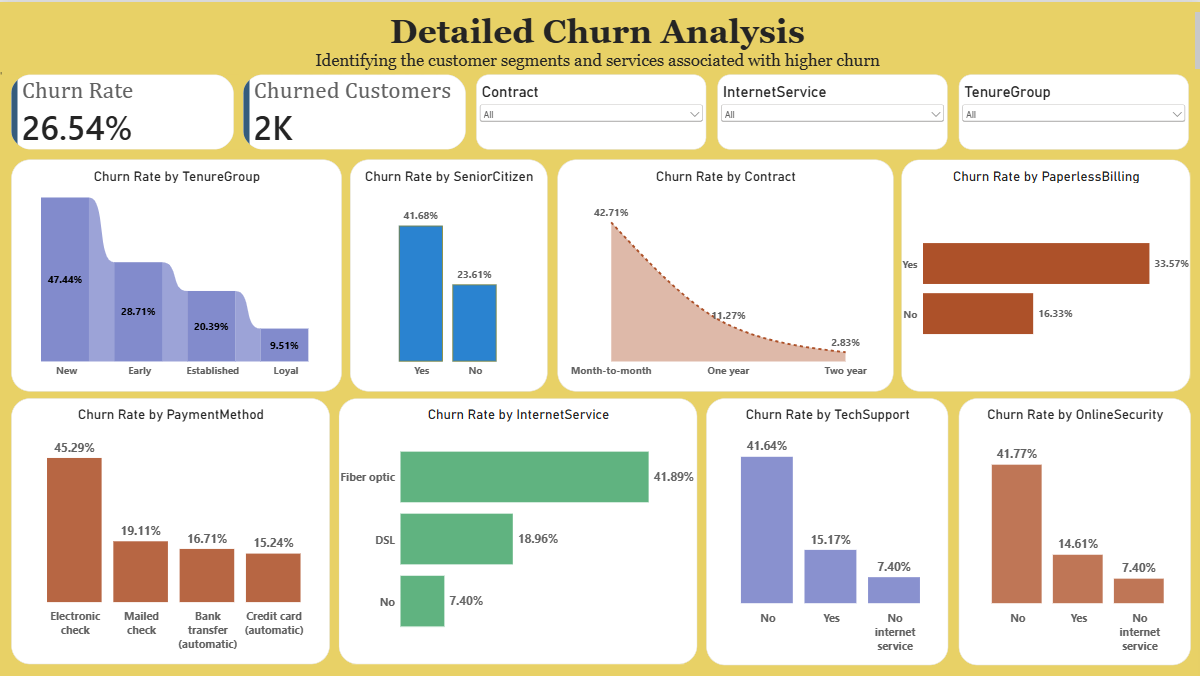

Layout of this report page (visuals, bound fields, positions):
{"tool":"powerbi","page":{"name":"Detailed Churn Analysis","canvas":[1920,1080],"ordinal":1},"visuals":[{"type":"textbox","box":[0,16,1920,100],"z":0},{"type":"cardVisual","fields":{"Data":["telco_customer_churn_cleaned.Churn Rate","telco_customer_churn_cleaned.Churned Customers"]},"box":[18,116,728,120],"z":1000},{"type":"areaChart","title":"Churn Rate by Contract","fields":{"Category":["telco_customer_churn_cleaned.Contract"],"Y":["telco_customer_churn_cleaned.Churn Rate"]},"box":[891.3,251.2,537.2,371.5],"z":2000},{"type":"ribbonChart","fields":{"Y":["telco_customer_churn_cleaned.Churn Rate"],"Category":["telco_customer_churn_cleaned.TenureGroup"]},"box":[18,252,524,372],"z":3000},{"type":"clusteredColumnChart","fields":{"Category":["telco_customer_churn_cleaned.PaymentMethod"],"Y":["telco_customer_churn_cleaned.Churn Rate"]},"box":[18,634,508,426],"z":4000},{"type":"clusteredBarChart","fields":{"Category":["telco_customer_churn_cleaned.InternetService"],"Y":["telco_customer_churn_cleaned.Churn Rate"]},"box":[542.4,634.9,573.8,425.6],"z":5000},{"type":"clusteredColumnChart","fields":{"Category":["telco_customer_churn_cleaned.SeniorCitizen"],"Y":["telco_customer_churn_cleaned.Churn Rate"]},"box":[556,252,320,370],"z":6000},{"type":"clusteredColumnChart","fields":{"Category":["telco_customer_churn_cleaned.TechSupport"],"Y":["telco_customer_churn_cleaned.Churn Rate"]},"box":[1130.2,634.9,387.2,427.3],"z":7000},{"type":"clusteredColumnChart","fields":{"Category":["telco_customer_churn_cleaned.OnlineSecurity"],"Y":["telco_customer_churn_cleaned.Churn Rate"]},"box":[1533.1,634.9,371.5,427.3],"z":8000},{"type":"clusteredBarChart","fields":{"Category":["telco_customer_churn_cleaned.PaperlessBilling"],"Y":["telco_customer_churn_cleaned.Churn Rate"]},"box":[1442.4,252.9,462.2,371.5],"z":9000},{"type":"slicer","fields":{"Values":["telco_customer_churn_cleaned.Contract"]},"box":[762,116,368,120],"z":10000},{"type":"slicer","fields":{"Values":["telco_customer_churn_cleaned.TenureGroup"]},"box":[1534,116,368,120],"z":11000},{"type":"slicer","fields":{"Values":["telco_customer_churn_cleaned.InternetService"]},"box":[1148,116,368,120],"z":12000}]}

Visuals, with their boxes in screenshot pixels (x1, y1, x2, y2), scaled from the page's 1920x1080 canvas onto the 1200x676 screenshot:
textbox: 0,10,1199,73
cardVisual - telco_customer_churn_cleaned.Churn Rate x telco_customer_churn_cleaned.Churned Customers: 11,73,466,148
"Churn Rate by Contract" areaChart: 557,157,893,390
ribbonChart - telco_customer_churn_cleaned.Churn Rate x telco_customer_churn_cleaned.TenureGroup: 11,158,339,391
clusteredColumnChart - telco_customer_churn_cleaned.PaymentMethod x telco_customer_churn_cleaned.Churn Rate: 11,397,329,663
clusteredBarChart - telco_customer_churn_cleaned.InternetService x telco_customer_churn_cleaned.Churn Rate: 339,397,698,664
clusteredColumnChart - telco_customer_churn_cleaned.SeniorCitizen x telco_customer_churn_cleaned.Churn Rate: 348,158,548,389
clusteredColumnChart - telco_customer_churn_cleaned.TechSupport x telco_customer_churn_cleaned.Churn Rate: 706,397,948,665
clusteredColumnChart - telco_customer_churn_cleaned.OnlineSecurity x telco_customer_churn_cleaned.Churn Rate: 958,397,1190,665
clusteredBarChart - telco_customer_churn_cleaned.PaperlessBilling x telco_customer_churn_cleaned.Churn Rate: 902,158,1190,391
slicer - telco_customer_churn_cleaned.Contract: 476,73,706,148
slicer - telco_customer_churn_cleaned.TenureGroup: 959,73,1189,148
slicer - telco_customer_churn_cleaned.InternetService: 718,73,948,148
